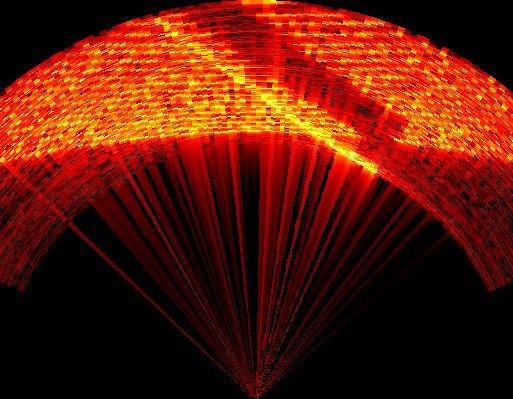pipe: (182, 2, 410, 155)
